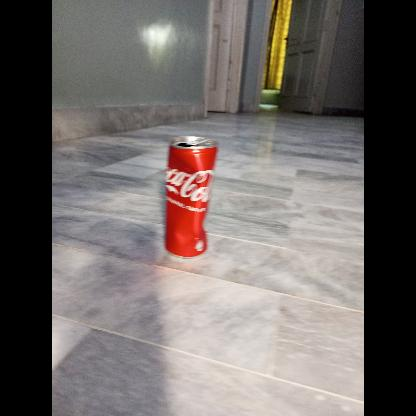Dent_Can: (167, 160, 215, 191), (172, 209, 206, 250)
Lid_Open: (177, 130, 211, 152)
Tin_Can: (160, 126, 219, 258)
